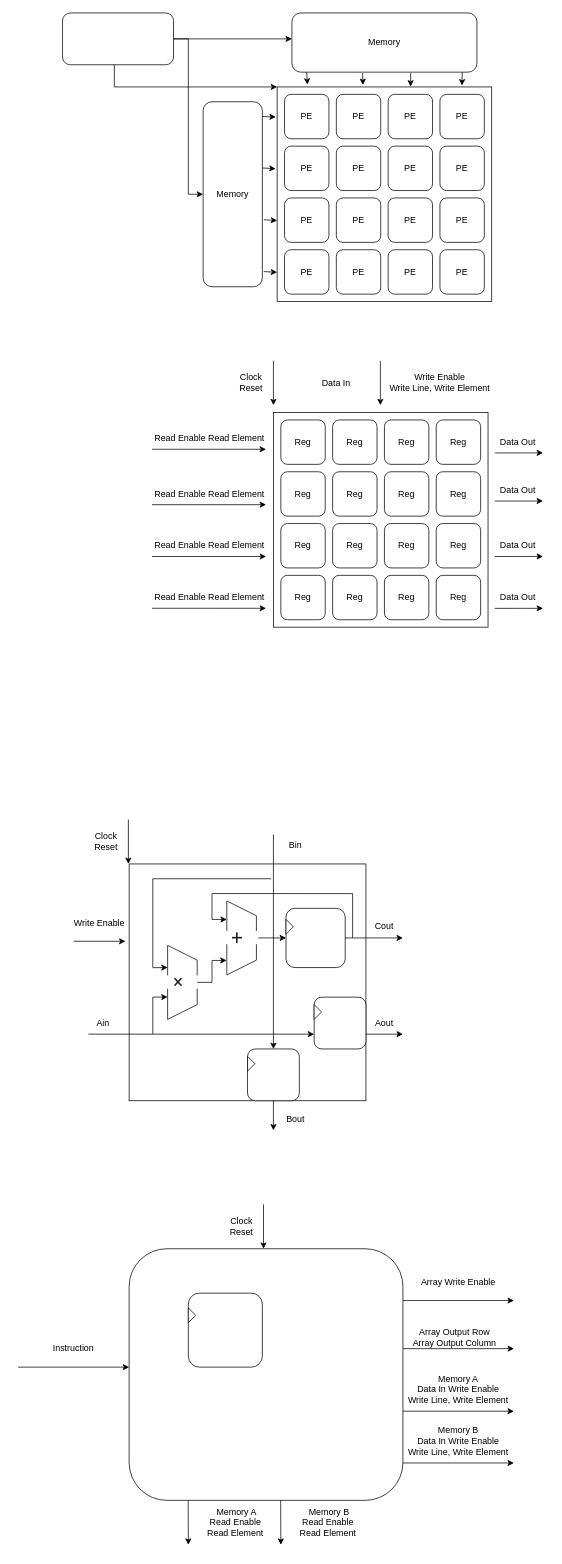
Image size: 562x1564. Some labels were removed from this diagram. The shapes that lost their labels are listed below. From the top down, each one's centre as x and y in pixels, then its label:
At (x=118, y=38): "Control".
At (x=315, y=938): "Reg C".
At (x=339, y=1022): "Reg A".
At (x=273, y=1074): "Reg B".
At (x=225, y=1329): "Cycle Counter".
